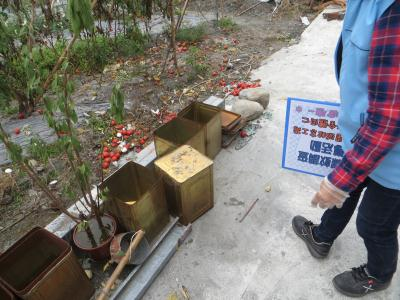bottle: (1, 224, 96, 299), (96, 159, 172, 243), (151, 142, 216, 226), (177, 99, 224, 158), (149, 116, 209, 157)
